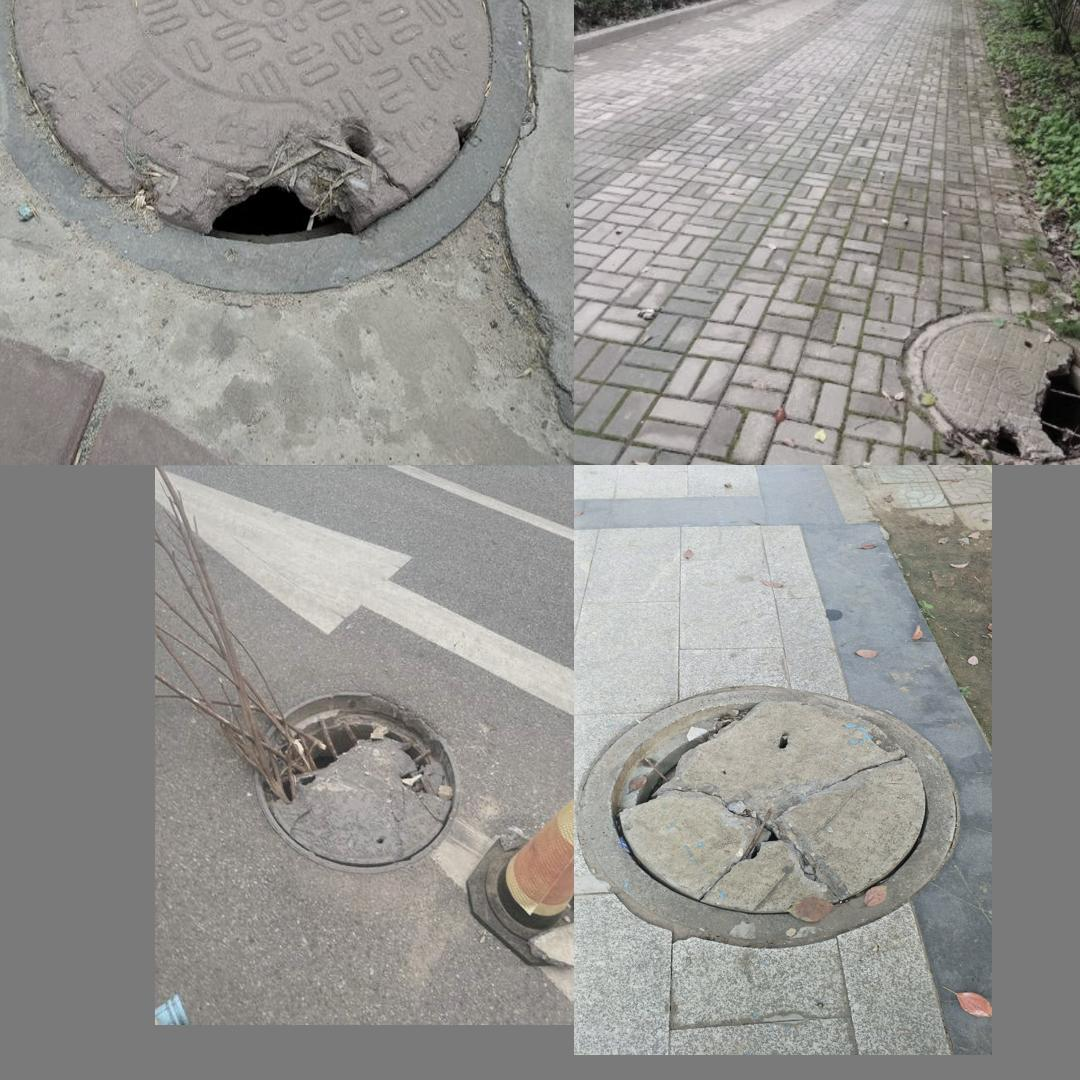broke: (0, 0, 535, 287), (577, 686, 956, 951), (240, 675, 468, 874), (905, 309, 1080, 465)
